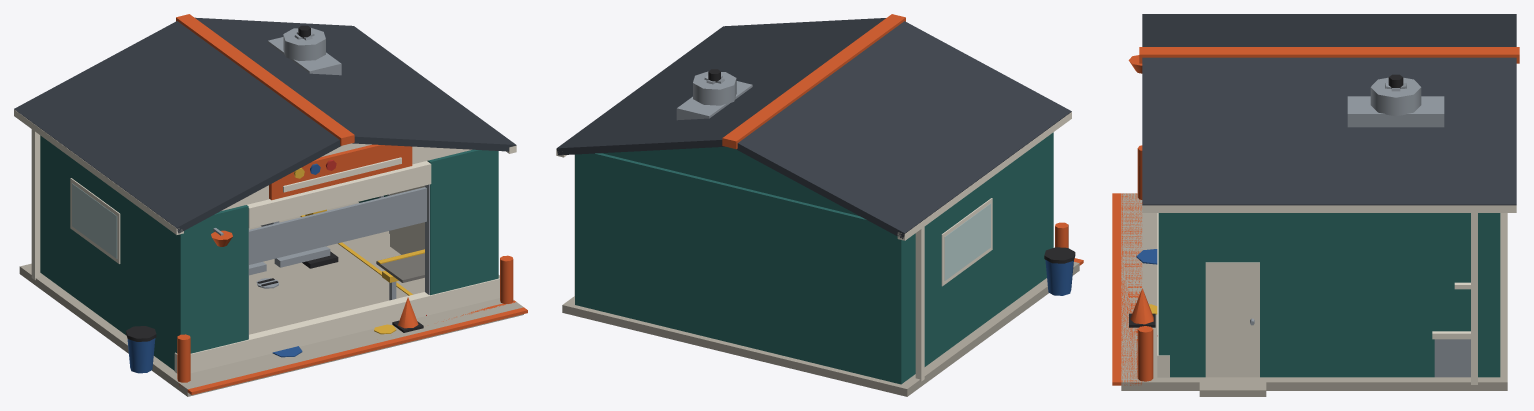
File: garage_de_peinture.glb
3 views of the same model, side by side, from view 1: azimuth 30°, elevation 25°; view 2: azimuth 150°, elevation 25°; view 3: azimuth 270°, elevation 25° (orthographic). The views are drawn at different scales.
Visible parts, largest first — view 1: roof_left, roof_right, slab, wall_left, pier_right, pier_left, base_band, lintel, sign_board, ridge_cap, window_frame_left, slab_lip (+19 smaller); view 2: wall_back, roof_left, roof_right, wall_left, slab, gable_back, ridge_cap, window_frame_left, window_left, downspout_left, gutter_left, fan_housing (+3 smaller); view 3: roof_right, wall_right, roof_left, slab, side_door, slab_lip, ridge_cap, gutter_right, duct, wall_back, fan_housing, bench_leg_r (+6 smaller).
Boxes of the visible parts, x1,y1,x2,y2 form: roof_left: (14,21,340,233); roof_right: (195,17,516,151); slab: (19,202,523,396); wall_left: (40,135,178,370); pier_right: (427,149,498,295); pier_left: (176,205,248,353); base_band: (174,278,499,373); lintel: (247,161,431,228); sign_board: (269,144,412,200); ridge_cap: (176,14,354,145); window_frame_left: (70,178,120,263); slab_lip: (179,300,527,394); wall_back: (575,153,905,384); roof_left: (736,21,1071,238); roof_right: (556,18,885,155); wall_left: (905,135,1049,380); slab: (562,262,1079,396); gable_back: (602,146,859,216); ridge_cap: (722,14,905,149); window_frame_left: (941,198,992,286); window_left: (944,203,990,280); downspout_left: (915,227,924,381); gutter_left: (897,112,1071,240); fan_housing: (693,71,736,105); roof_right: (1142,57,1516,205); wall_right: (1163,213,1495,377); roof_left: (1142,14,1516,46); slab: (1121,193,1507,390); side_door: (1205,262,1259,377); slab_lip: (1112,193,1142,385); ridge_cap: (1139,47,1519,63); gutter_right: (1142,205,1516,212); duct: (1347,96,1444,127); wall_back: (1490,213,1500,377); fan_housing: (1370,77,1421,116); bench_leg_r: (1434,339,1470,377).
Size of the model in its own units: 8.32 by 4.71 by 6.75.
